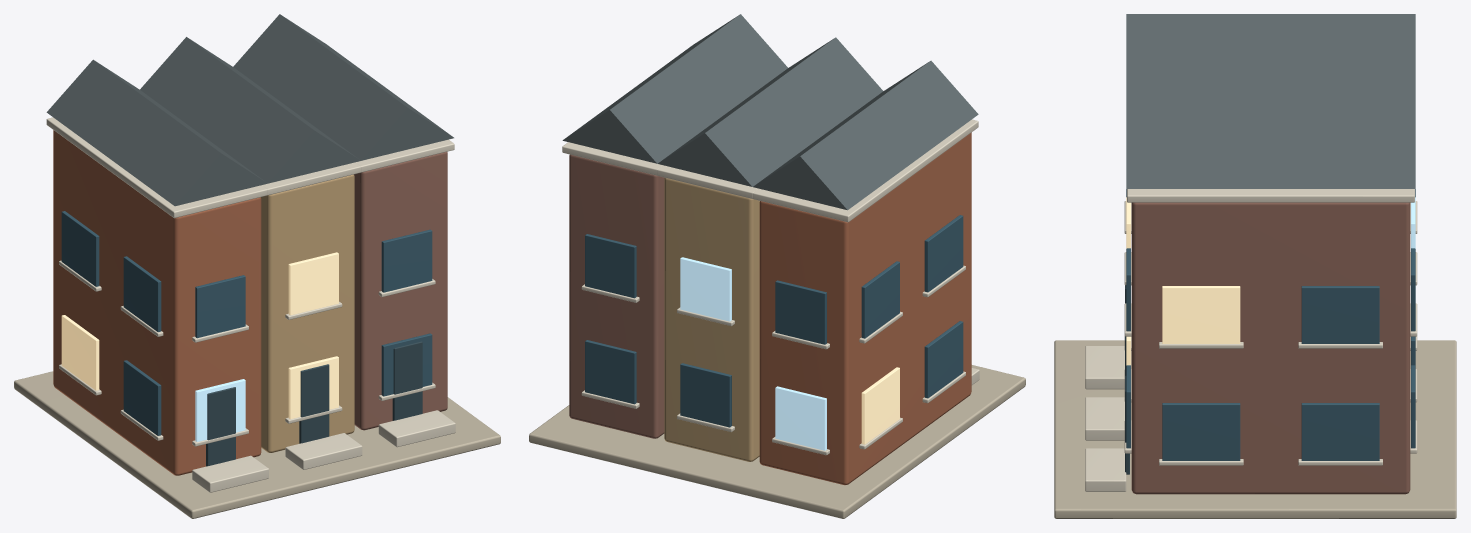
The model's file is townhouse.glb.
3 views of the same model, side by side, from view 1: azimuth 30°, elevation 25°; view 2: azimuth 150°, elevation 25°; view 3: azimuth 270°, elevation 25° (orthographic). The views are drawn at different scales.
Parts seen in each view (by area): view 1: townhouse_Building_Volume, townhouse_Building_Volume.001, townhouse_Building_Volume.002, townhouse_Site_Paving, townhouse_Gable_Roof.002, townhouse_Gable_Roof, townhouse_Gable_Roof.001, townhouse_Roof_Coping, townhouse_Window_Recess.031, townhouse_Window_Recess.007, townhouse_Window_Recess.019, townhouse_Front_Door.002 (+14 smaller); view 2: townhouse_Building_Volume, townhouse_Building_Volume.002, townhouse_Building_Volume.001, townhouse_Site_Paving, townhouse_Gable_Roof.001, townhouse_Gable_Roof.002, townhouse_Gable_Roof, townhouse_Roof_Coping, townhouse_Window_Recess, townhouse_Window_Recess.012, townhouse_Window_Recess.018, townhouse_Window_Recess.006 (+8 smaller); view 3: townhouse_Building_Volume.002, townhouse_Site_Paving, townhouse_Gable_Roof.002, townhouse_Gable_Roof, townhouse_Gable_Roof.001, townhouse_Window_Recess.027, townhouse_Window_Recess.029, townhouse_Window_Recess.033, townhouse_Window_Recess.035, townhouse_Roof_Coping.002, townhouse_Entry_Stair.002, townhouse_Entry_Stair (+1 smaller).
Part boxes in pixels (left/top/right/bottom): townhouse_Building_Volume: left=53, top=130, right=261, bottom=475; townhouse_Building_Volume.001: left=261, top=174, right=354, bottom=452; townhouse_Building_Volume.002: left=354, top=152, right=447, bottom=430; townhouse_Site_Paving: left=14, top=371, right=500, bottom=518; townhouse_Gable_Roof.002: left=233, top=14, right=453, bottom=160; townhouse_Gable_Roof: left=46, top=59, right=267, bottom=206; townhouse_Gable_Roof.001: left=140, top=37, right=360, bottom=183; townhouse_Roof_Coping: left=46, top=117, right=267, bottom=218; townhouse_Window_Recess.031: left=381, top=229, right=432, bottom=292; townhouse_Window_Recess.007: left=195, top=275, right=245, bottom=338; townhouse_Window_Recess.019: left=288, top=252, right=338, bottom=315; townhouse_Front_Door.002: left=392, top=341, right=422, bottom=420; townhouse_Building_Volume: left=759, top=132, right=971, bottom=485; townhouse_Building_Volume.002: left=569, top=154, right=664, bottom=438; townhouse_Building_Volume.001: left=664, top=178, right=759, bottom=461; townhouse_Site_Paving: left=529, top=365, right=1025, bottom=518; townhouse_Gable_Roof.001: left=657, top=37, right=883, bottom=186; townhouse_Gable_Roof.002: left=562, top=14, right=787, bottom=163; townhouse_Gable_Roof: left=753, top=60, right=978, bottom=210; townhouse_Roof_Coping: left=753, top=119, right=978, bottom=222; townhouse_Window_Recess: left=775, top=386, right=826, bottom=450; townhouse_Window_Recess.012: left=680, top=363, right=731, bottom=427; townhouse_Window_Recess.018: left=680, top=257, right=731, bottom=321; townhouse_Window_Recess.006: left=775, top=280, right=826, bottom=344; townhouse_Building_Volume.002: left=1131, top=202, right=1410, bottom=494; townhouse_Site_Paving: left=1054, top=340, right=1456, bottom=518; townhouse_Gable_Roof.002: left=1126, top=116, right=1415, bottom=188; townhouse_Gable_Roof: left=1126, top=14, right=1415, bottom=65; townhouse_Gable_Roof.001: left=1126, top=65, right=1415, bottom=116; townhouse_Window_Recess.027: left=1301, top=403, right=1379, bottom=460; townhouse_Window_Recess.029: left=1162, top=403, right=1240, bottom=460; townhouse_Window_Recess.033: left=1301, top=286, right=1379, bottom=343; townhouse_Window_Recess.035: left=1162, top=286, right=1240, bottom=343; townhouse_Roof_Coping.002: left=1127, top=189, right=1414, bottom=202; townhouse_Entry_Stair.002: left=1085, top=448, right=1126, bottom=491; townhouse_Entry_Stair: left=1085, top=346, right=1124, bottom=389.
Size of the model in its own units: 7.8 by 7.9 by 7.8.
